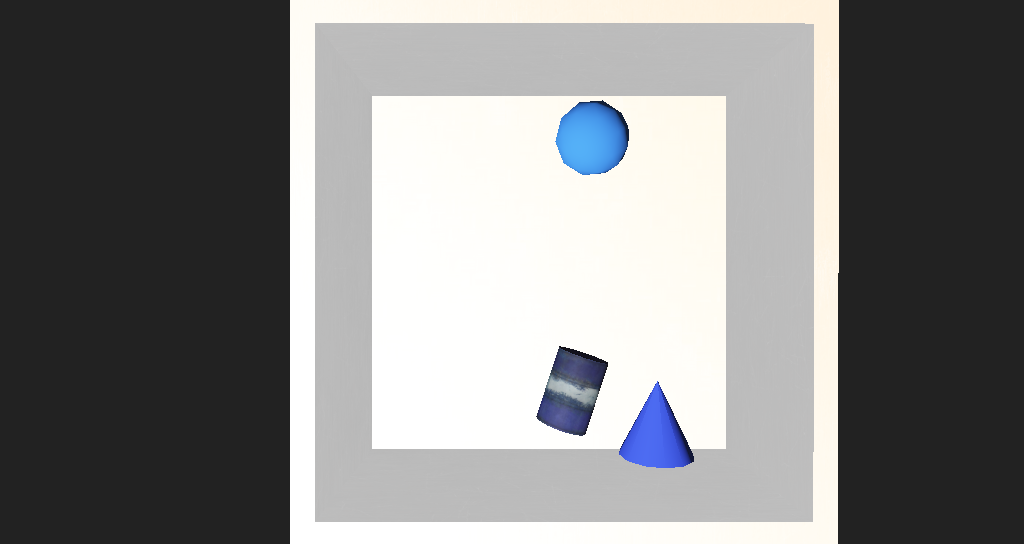cone: (492, 310, 559, 367)
cylinder: (569, 332, 630, 384)
sphere: (505, 169, 573, 212)
